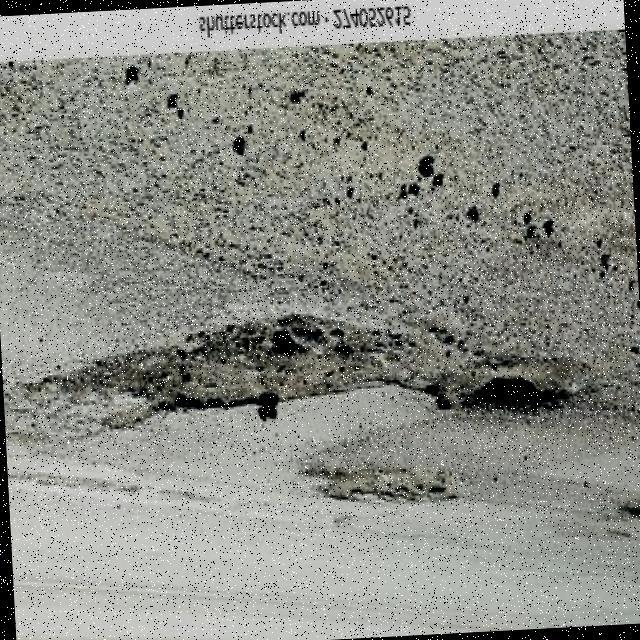Pothole: (28, 312, 443, 413), (295, 465, 459, 505), (476, 373, 567, 411)
